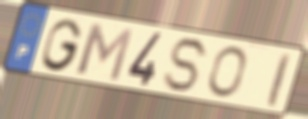4: (125, 31, 163, 88)
G: (40, 17, 85, 73)
I: (265, 50, 293, 110)
M: (74, 20, 136, 84)
O: (205, 44, 248, 100)
S: (161, 36, 213, 95)
